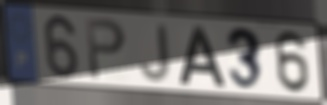3: (224, 25, 268, 93)
6: (42, 13, 80, 81), (273, 29, 311, 96)
A: (176, 24, 228, 88)
J: (138, 23, 172, 84)
P: (83, 16, 128, 83)
